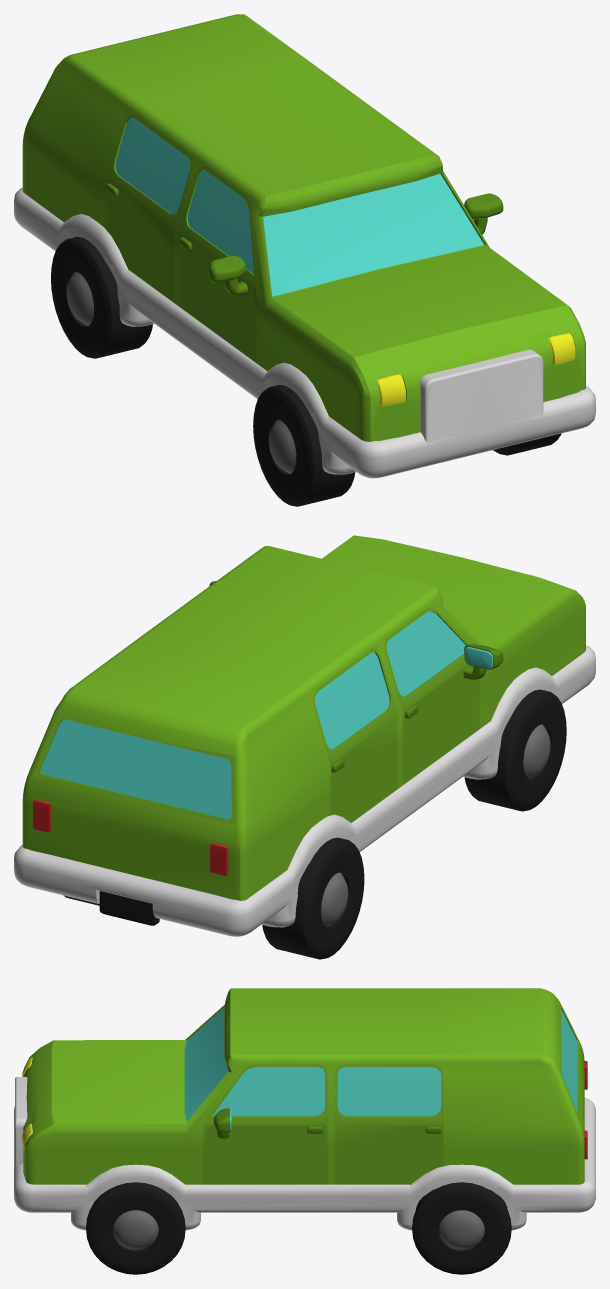
Rendered from SimpleHeavyCar.fbx.
3 renders of one model, top to bottom at view 1: azimuth 30°, elevation 25°; view 2: azimuth 150°, elevation 25°; view 3: azimuth 270°, elevation 25°, orthographic. The views are drawn at different scales.
Visible parts, largest first — view 1: HeavyBody, HeavyBottom, BK_RHeavyWheel, FR_RHeavyWheel; view 2: HeavyBody, HeavyBottom, BK_RHeavyWheel, FR_RHeavyWheel, HeavyPlate; view 3: HeavyBody, HeavyBottom, BK_LHeavyWheel, FR_LHeavyWheel.
Part boxes in pixels (x1,y1,x2,y2): HeavyBody: [22, 14, 585, 441]; HeavyBottom: [14, 187, 595, 478]; BK_RHeavyWheel: [51, 236, 152, 358]; FR_RHeavyWheel: [253, 384, 355, 506]; HeavyBody: [22, 535, 585, 900]; HeavyBottom: [14, 571, 595, 936]; BK_RHeavyWheel: [262, 837, 364, 959]; FR_RHeavyWheel: [464, 689, 566, 811]; HeavyPlate: [99, 891, 159, 925]; HeavyBody: [22, 988, 587, 1184]; HeavyBottom: [14, 1077, 595, 1230]; BK_LHeavyWheel: [412, 1182, 511, 1274]; FR_LHeavyWheel: [86, 1182, 185, 1274].
Bounding box in the file's own units: 3.26 × 2.72 × 7.01.
Materials: 2 (2 with a texture image).
